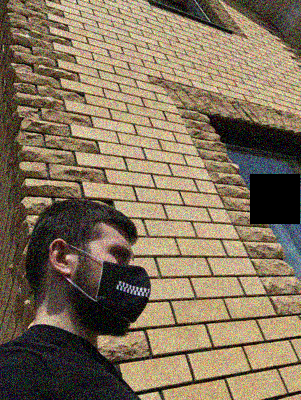with_mask: (92, 233, 151, 338)
